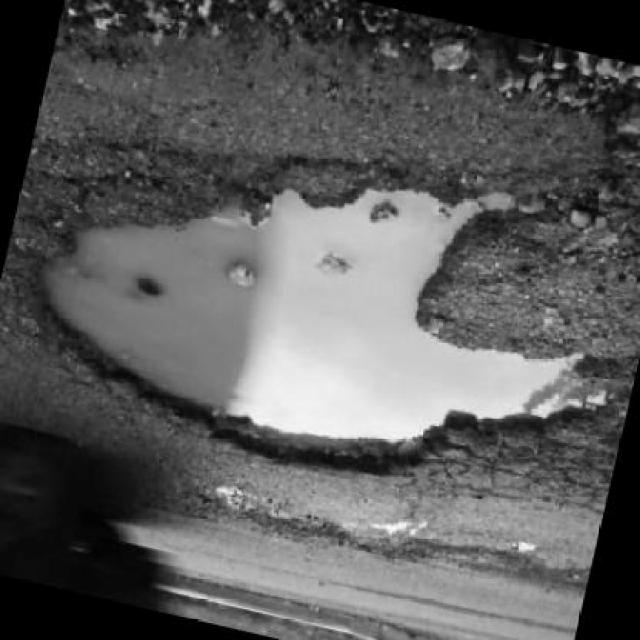pothole: (2, 85, 640, 547)
